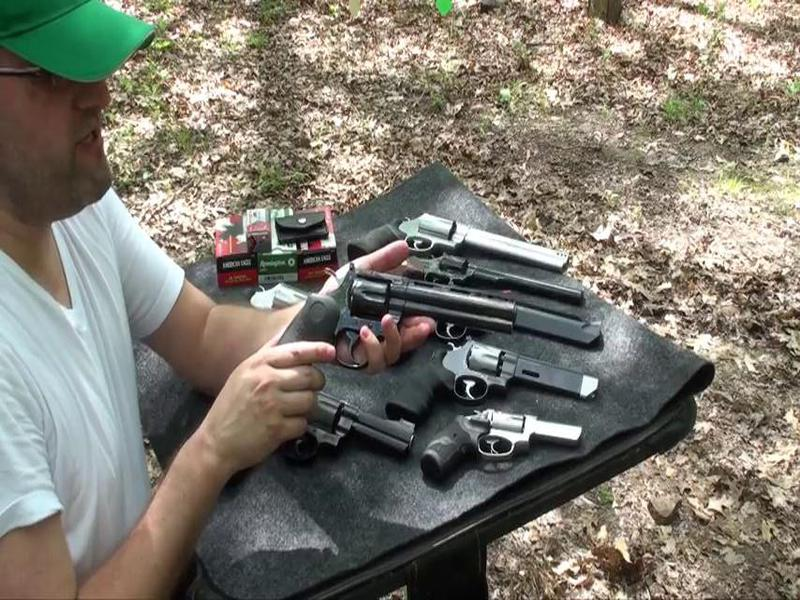Revolver: (252, 248, 540, 419)
